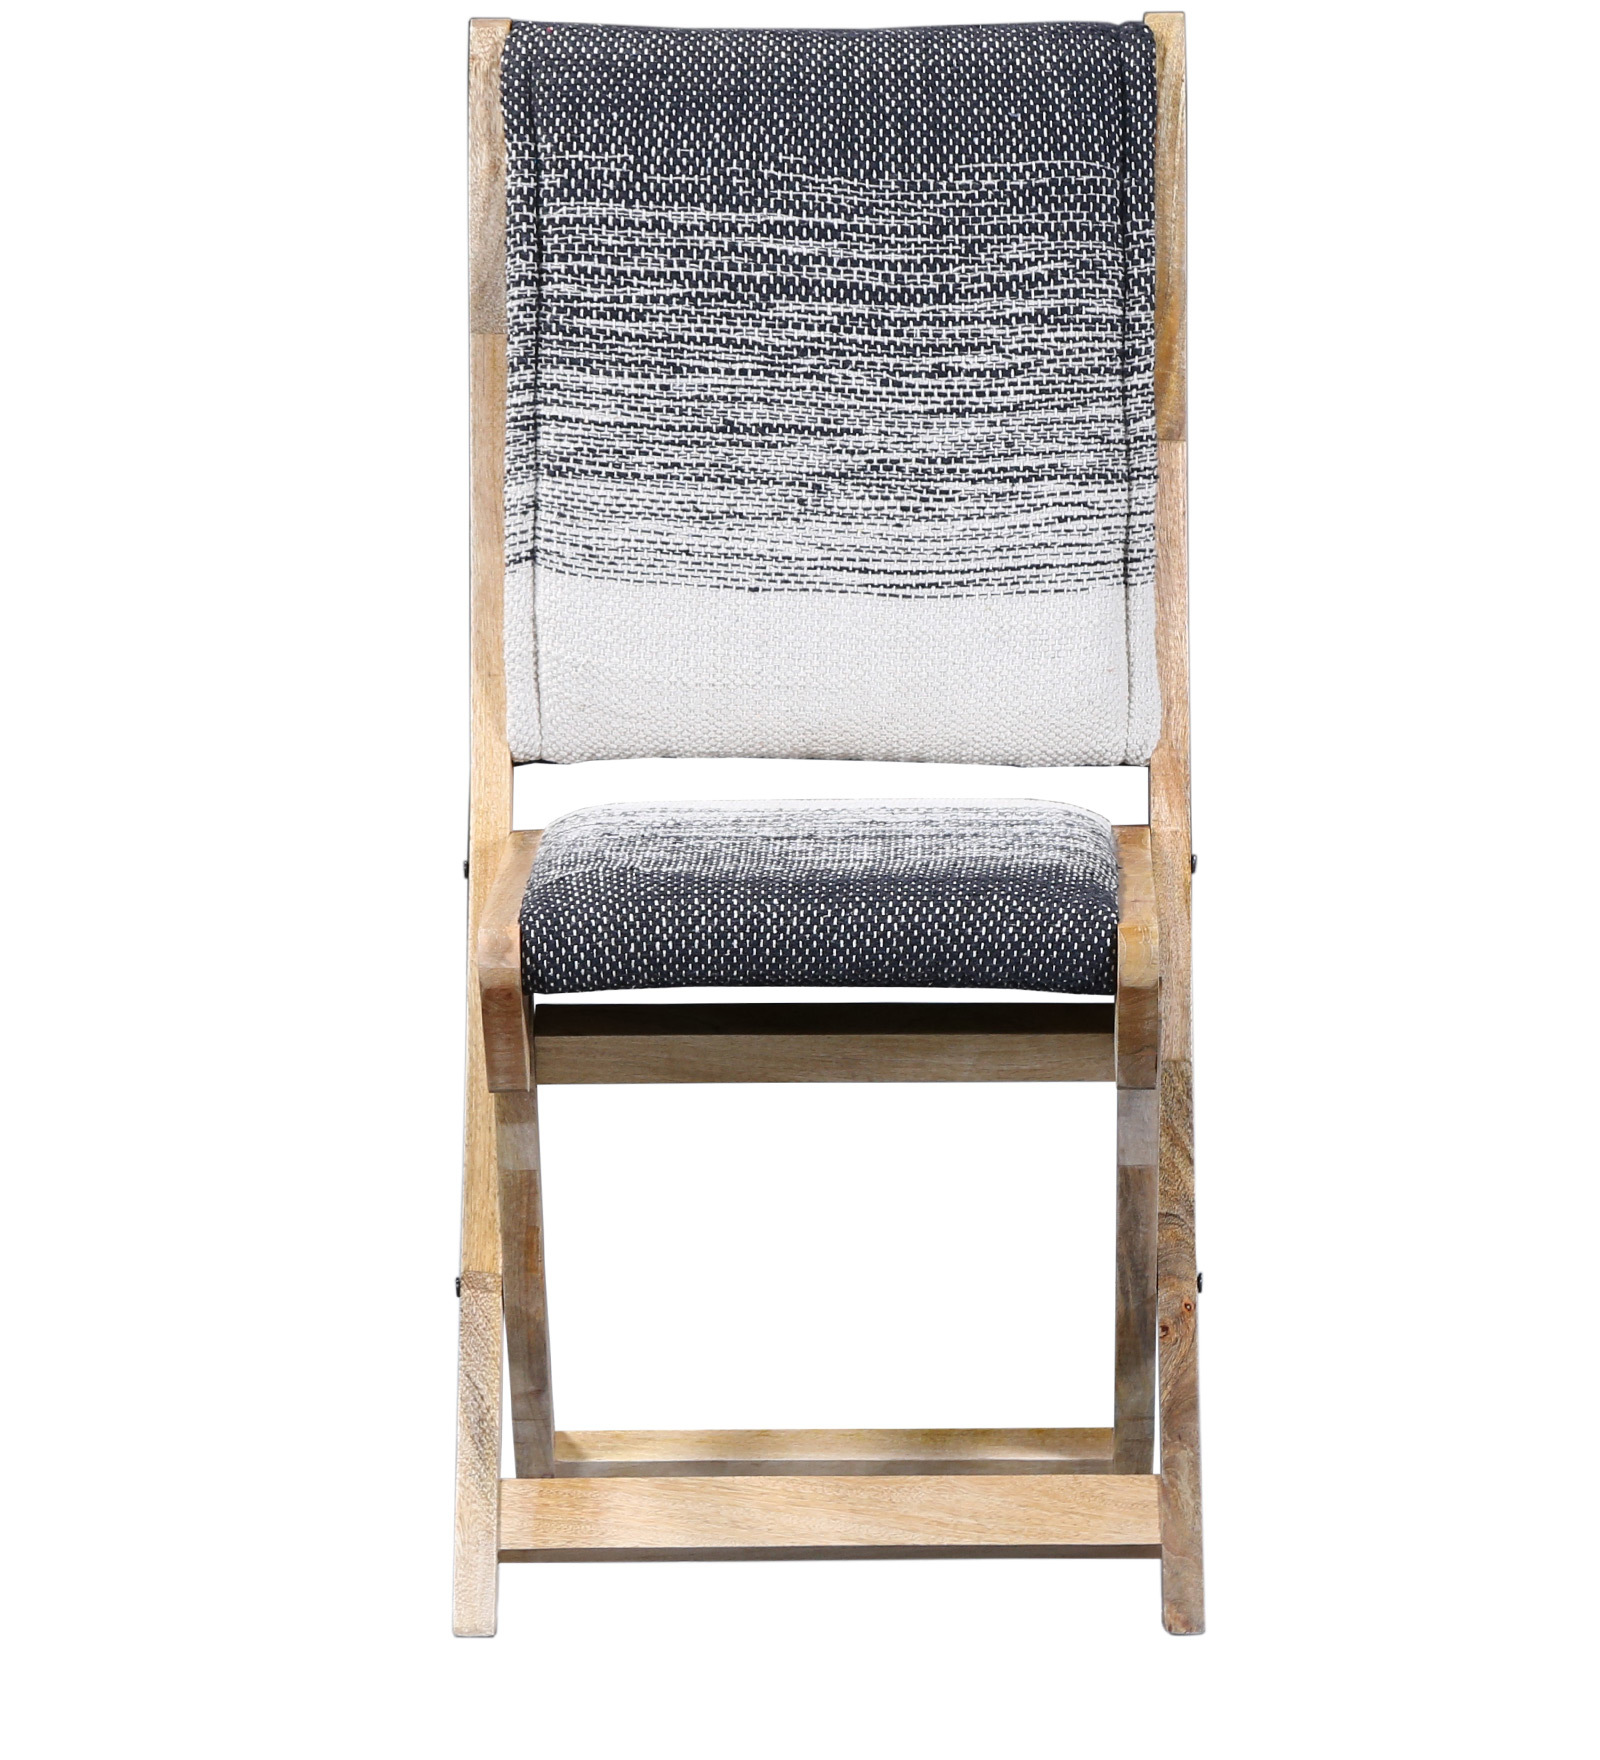Horan Folding Chair by Bohemiana: (438, 5, 1269, 1703)
